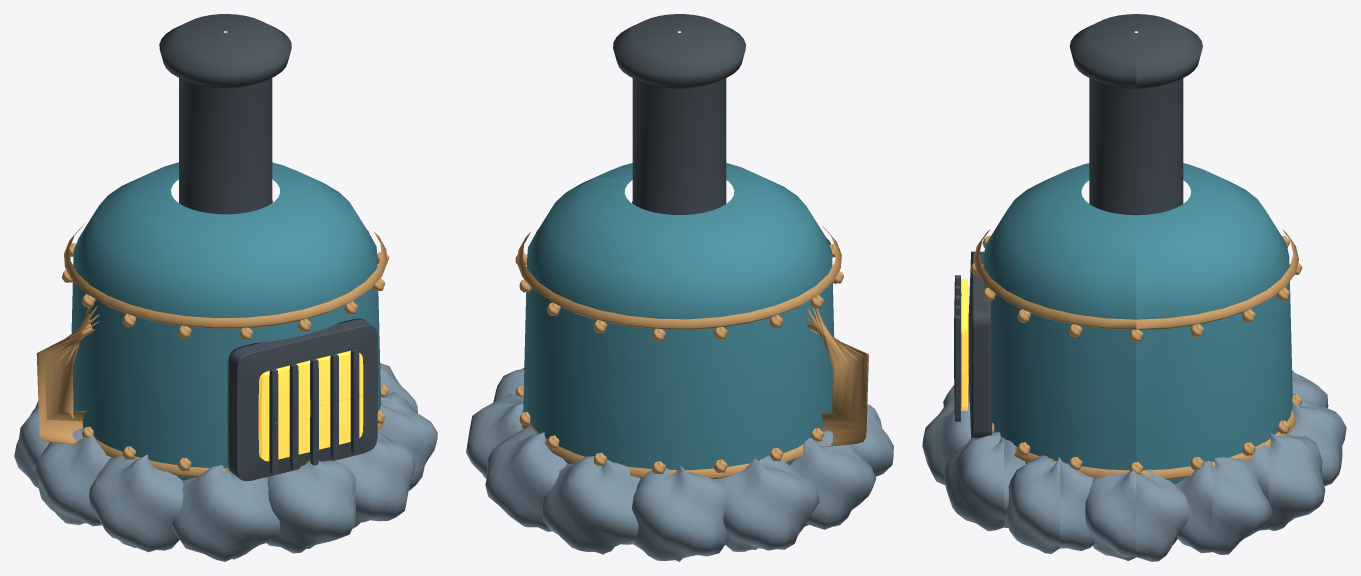
File: furnace.glb
3 renders of one model, left to right at view 1: azimuth 30°, elevation 25°; view 2: azimuth 150°, elevation 25°; view 3: azimuth 270°, elevation 25°, orthographic.
Parts seen in each view (by area): view 1: cast_body, smoke_flue, firebox_frame, foundation_4, foundation_5, foundation_3, firebox_glow, firebox_grate (×5), brass_seam (×2), foundation_6, foundation_2, side_pipe (+3 smaller); view 2: cast_body, smoke_flue, foundation_8, foundation_9, foundation_7, brass_seam (×2), foundation_10, foundation_6, side_pipe, foundation_11, foundation_5, foundation_0; view 3: cast_body, smoke_flue, foundation_0, foundation_1, foundation_11, brass_seam (×2), foundation_2, foundation_10, firebox_frame, foundation_9, foundation_3, firebox_glow (+2 smaller).
Part boxes in pixels (x1=…): cast_body: x1=71, y1=162, x2=381, y2=480; smoke_flue: x1=159, y1=14, x2=291, y2=214; firebox_frame: x1=227, y1=318, x2=377, y2=481; foundation_4: x1=171, y1=465, x2=279, y2=561; foundation_5: x1=89, y1=454, x2=183, y2=552; foundation_3: x1=266, y1=460, x2=356, y2=553; firebox_glow: x1=258, y1=350, x2=363, y2=461; firebox_grate (×5): x1=269, y1=348, x2=359, y2=475; brass_seam (×2): x1=64, y1=224, x2=387, y2=477; foundation_6: x1=35, y1=427, x2=111, y2=526; foundation_2: x1=334, y1=431, x2=415, y2=528; side_pipe: x1=36, y1=306, x2=99, y2=445; cast_body: x1=523, y1=163, x2=834, y2=470; smoke_flue: x1=613, y1=14, x2=745, y2=214; foundation_8: x1=630, y1=465, x2=728, y2=561; foundation_9: x1=542, y1=456, x2=640, y2=554; foundation_7: x1=717, y1=455, x2=819, y2=551; brass_seam (×2): x1=517, y1=226, x2=841, y2=478; foundation_10: x1=485, y1=426, x2=567, y2=531; foundation_6: x1=790, y1=430, x2=876, y2=529; side_pipe: x1=806, y1=308, x2=868, y2=447; foundation_11: x1=466, y1=393, x2=523, y2=478; foundation_5: x1=852, y1=404, x2=893, y2=476; foundation_0: x1=493, y1=368, x2=524, y2=402; cast_body: x1=983, y1=163, x2=1292, y2=484; smoke_flue: x1=1069, y1=14, x2=1202, y2=215; foundation_0: x1=1085, y1=469, x2=1189, y2=561; foundation_1: x1=1005, y1=455, x2=1094, y2=554; foundation_11: x1=1175, y1=457, x2=1272, y2=554; brass_seam (×2): x1=973, y1=229, x2=1298, y2=479; foundation_2: x1=943, y1=431, x2=1025, y2=531; foundation_10: x1=1249, y1=433, x2=1325, y2=530; firebox_frame: x1=968, y1=251, x2=992, y2=438; foundation_9: x1=1288, y1=393, x2=1346, y2=486; foundation_3: x1=922, y1=396, x2=970, y2=485; firebox_glow: x1=961, y1=279, x2=968, y2=410.
Bounding box in the file's own units: 2.2 × 2.6 × 2.16.
